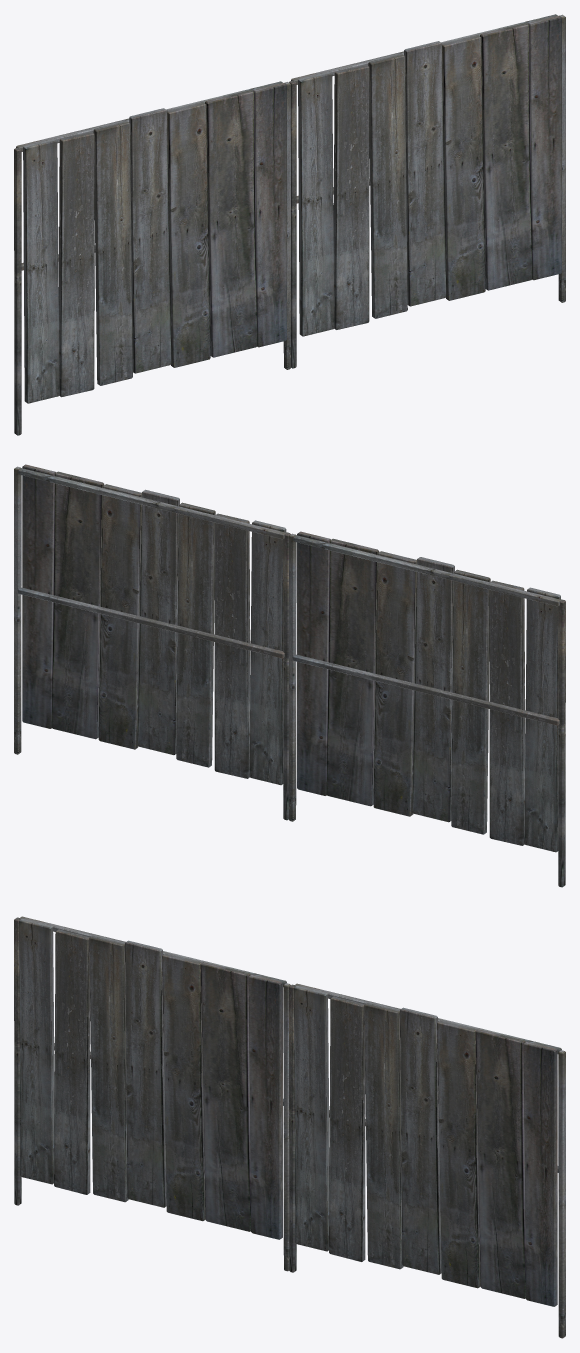
The model's file is backfence.obj.
3 views of the same model, one above another, from view 1: azimuth 30°, elevation 25°; view 2: azimuth 150°, elevation 25°; view 3: azimuth 330°, elevation 25° (orthographic).
Parts seen in each view (by area): view 1: UhG81k.024_UhG81k_0.002; view 2: UhG81k.024_UhG81k_0.002; view 3: UhG81k.024_UhG81k_0.002.
Boxes of the visible parts, left/top/right/bottom form: UhG81k.024_UhG81k_0.002: left=14, top=14, right=565, bottom=435; UhG81k.024_UhG81k_0.002: left=14, top=464, right=565, bottom=887; UhG81k.024_UhG81k_0.002: left=14, top=916, right=565, bottom=1338.
Bounding box in the file's own units: 0.4829 × 0.245 × 0.011.
